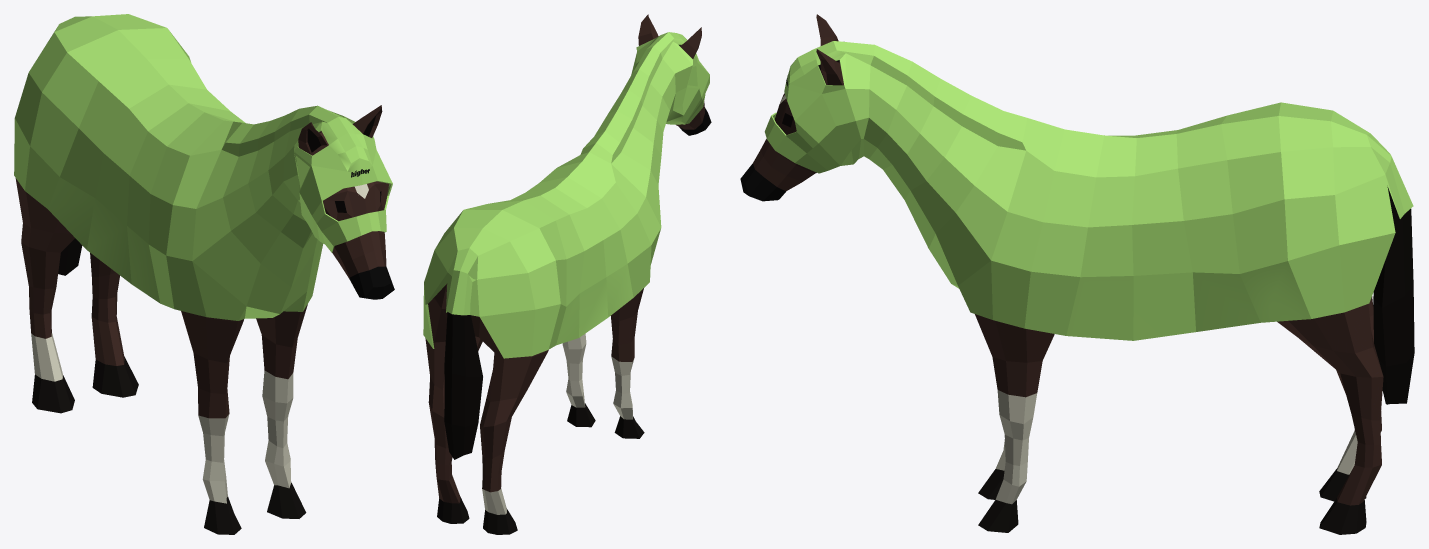
File: horse.glb
The picture shows the model from 3 angles, left to right: view 1: azimuth 30°, elevation 25°; view 2: azimuth 150°, elevation 25°; view 3: azimuth 270°, elevation 25°; orthographic projection. The views are drawn at different scales.
Parts seen in each view (by area): view 1: horse; view 2: horse; view 3: horse.
Boxes of the visible parts, bbox=[...] form: horse: bbox=[14, 14, 394, 534]; horse: bbox=[423, 14, 711, 534]; horse: bbox=[740, 14, 1414, 534].
Size of the model in its own units: 0.7351 by 1.99 by 2.54.
Materials: 1 (1 with a texture image).
